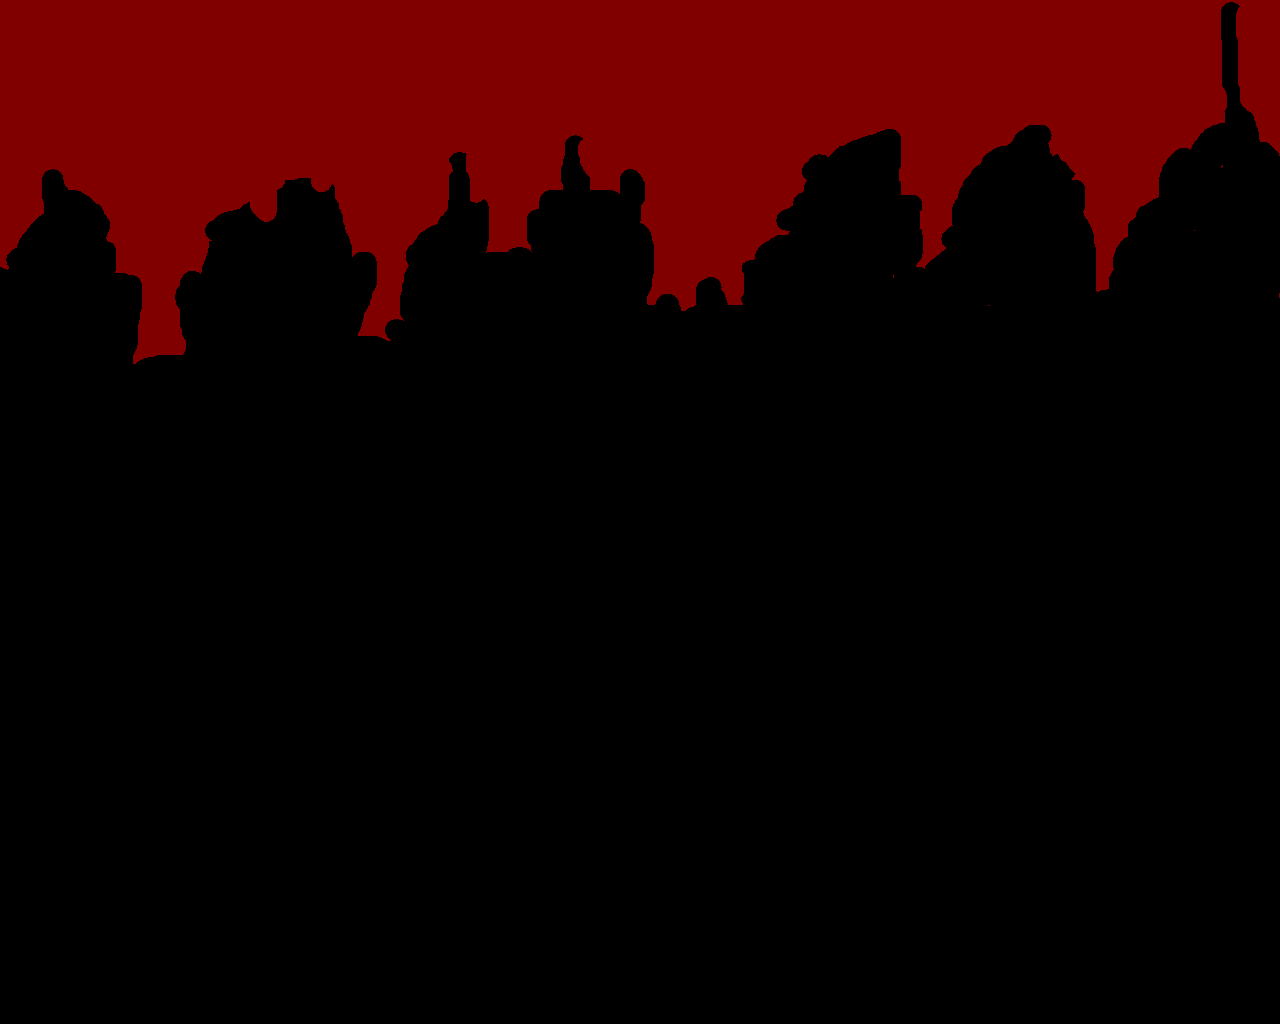Sky: (1, 1, 1279, 364)
